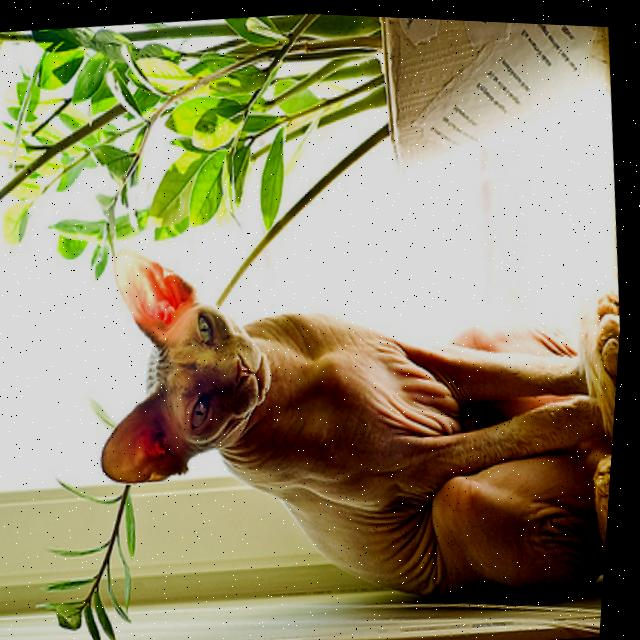Sphynx: (70, 193, 630, 640)
